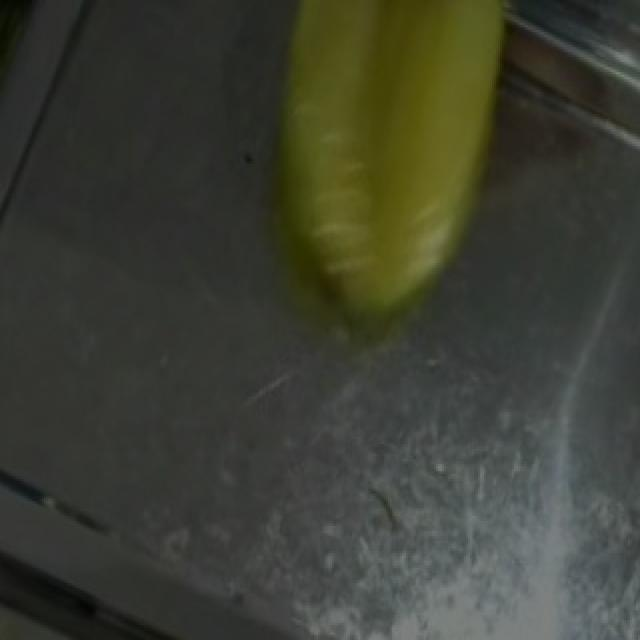fruit: (242, 0, 574, 345)
